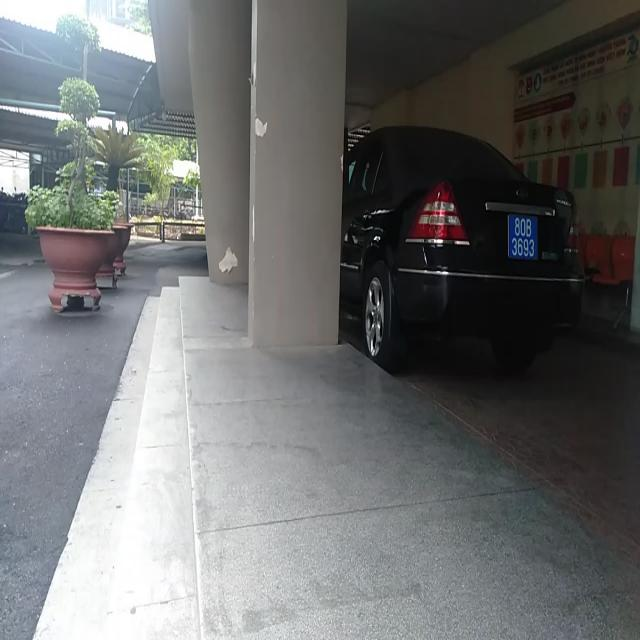bien_xanh: (504, 210, 542, 264)
